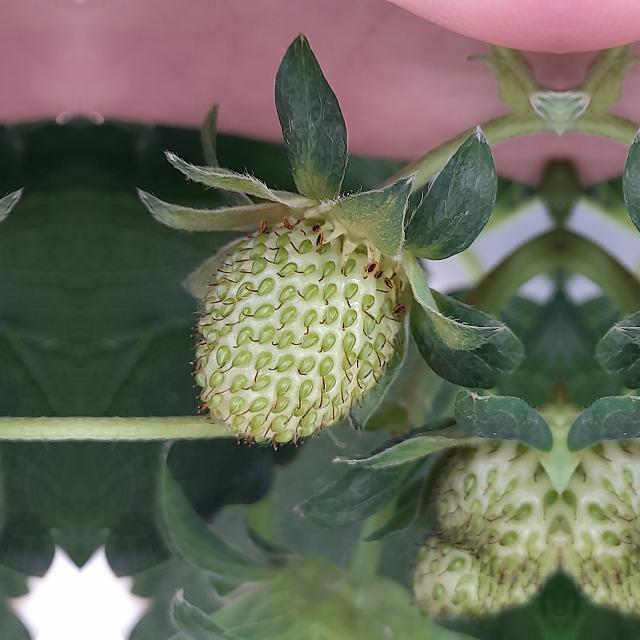Health_25: (190, 218, 408, 450)
